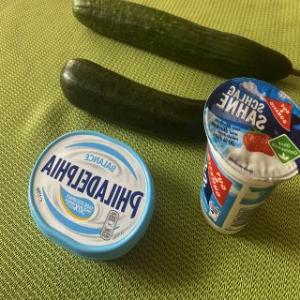cucumber: (66, 1, 300, 84)
zucchini: (54, 56, 210, 146)
